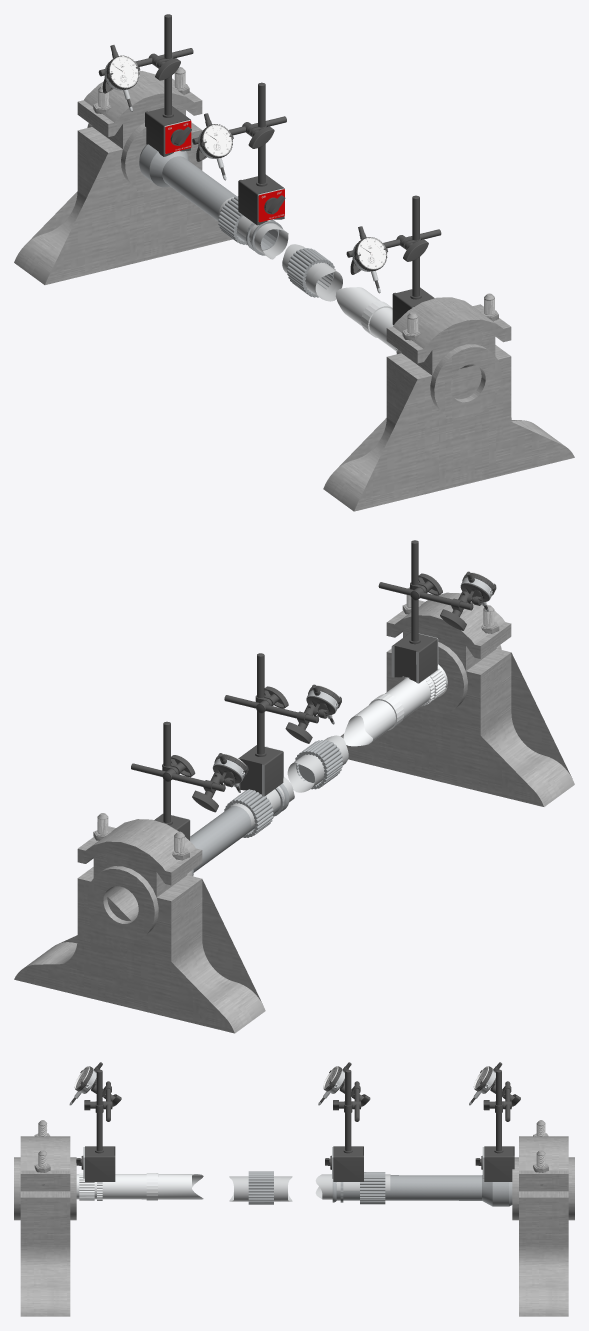
3 views of the same model, one above another, from view 1: azimuth 30°, elevation 25°; view 2: azimuth 150°, elevation 25°; view 3: azimuth 270°, elevation 25° (orthographic). The views are drawn at different scales.
Parts seen in each view (by area): view 1: mount.001, mount, 1, Dial Indicators-01.001, Dial Indicators-01.002, Dial Indicators-01.003, 6.002, 7; view 2: mount, mount.001, Dial Indicators-01.003, Dial Indicators-01.001, 1, Dial Indicators-01.002, 7, 6.002; view 3: mount.001, mount, 1, 7, Dial Indicators-01.003, Dial Indicators-01.001, Dial Indicators-01.002, 6.002.
Part boxes in pixels (box(x1,y1,x2,y2)): mount.001: box(323, 293, 574, 511); mount: box(14, 67, 232, 284); 1: box(139, 144, 288, 259); Dial Indicators-01.001: box(192, 82, 286, 225); Dial Indicators-01.002: box(98, 14, 193, 156); Dial Indicators-01.003: box(346, 195, 441, 324); 6.002: box(282, 244, 342, 301); 7: box(335, 287, 397, 352); mount: box(14, 813, 265, 1033); mount.001: box(340, 587, 574, 806); Dial Indicators-01.003: box(378, 540, 496, 683); Dial Indicators-01.001: box(224, 653, 341, 796); 1: box(190, 777, 294, 876); Dial Indicators-01.002: box(131, 721, 248, 840); 7: box(343, 664, 447, 746); 6.002: box(287, 735, 348, 792); mount.001: box(14, 1120, 76, 1316); mount: box(512, 1120, 574, 1316); 1: box(315, 1172, 512, 1206); 7: box(76, 1173, 203, 1200); Dial Indicators-01.003: box(69, 1062, 121, 1181); Dial Indicators-01.001: box(318, 1062, 370, 1181); Dial Indicators-01.002: box(469, 1062, 520, 1181); 6.002: box(229, 1171, 292, 1204).
Bounding box in the file's own units: 197 × 215 × 538.
Materials: 13 (5 with a texture image).
